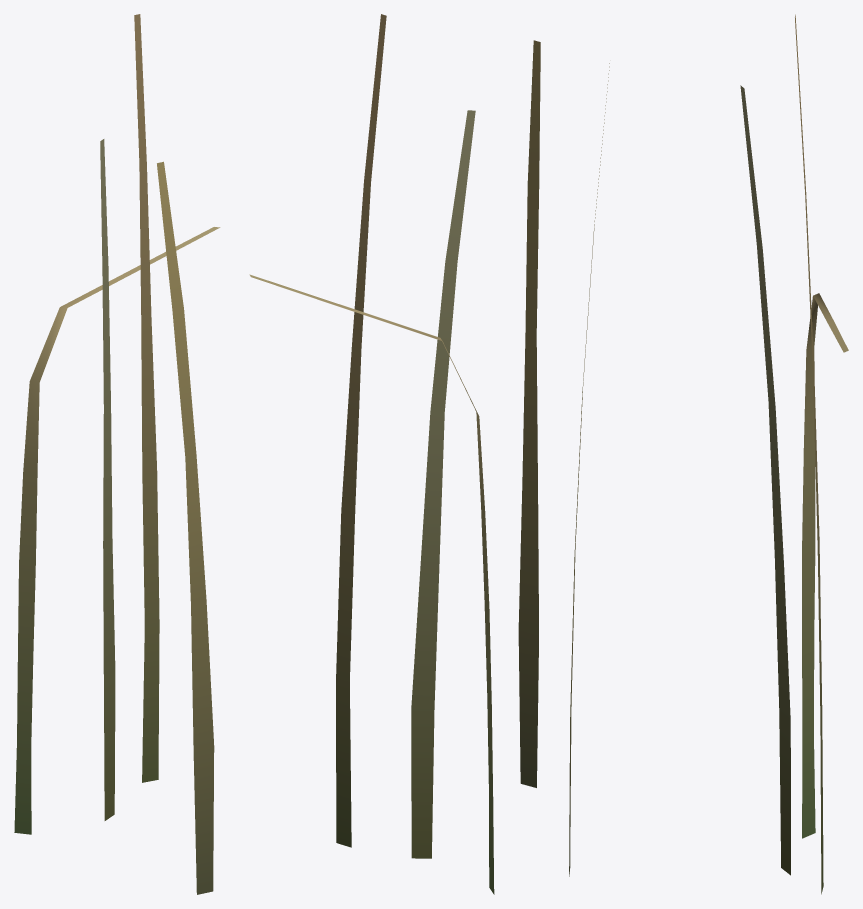
Rendered from env_grass_sparse_dry_01.glb.
The picture shows the model from 3 angles, left to right: view 1: azimuth 30°, elevation 25°; view 2: azimuth 150°, elevation 25°; view 3: azimuth 270°, elevation 25°; orthographic projection. The views are drawn at different scales.
Visible parts, largest first — view 1: grass_sparse_dry; view 2: grass_sparse_dry; view 3: grass_sparse_dry.
Boxes of the visible parts, bbox=[...] form: grass_sparse_dry: bbox=[14, 14, 220, 894]; grass_sparse_dry: bbox=[249, 14, 540, 894]; grass_sparse_dry: bbox=[569, 14, 848, 894].
Size of the model in its own units: 0.1036 by 0.3607 by 0.1041.
